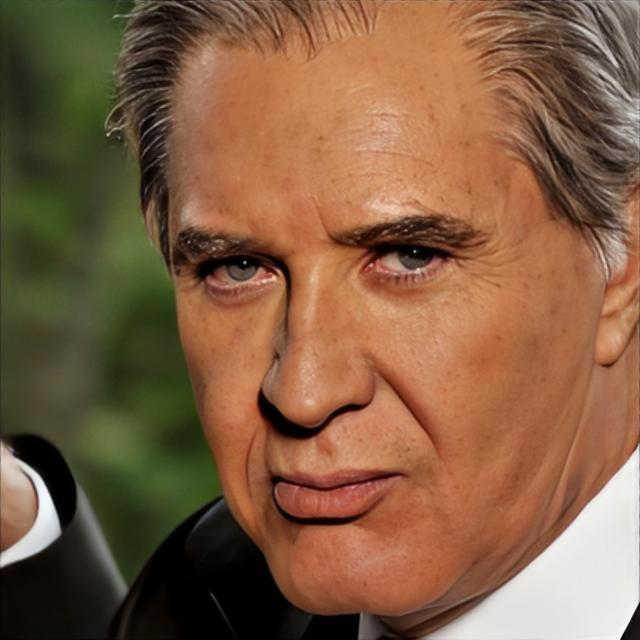anger: (170, 38, 588, 604)
